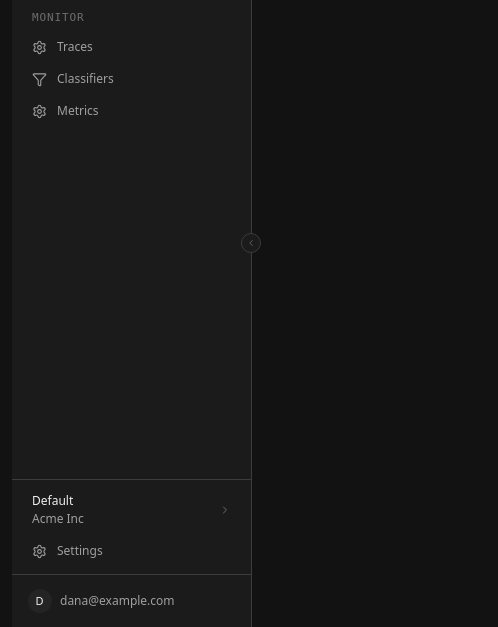
Test: the project switcher › starts a new project in this org
This screenshot has width=498, height=627.
Click the button "Default Acme Inc". click: (132,510)
box: [22,486,241,534]
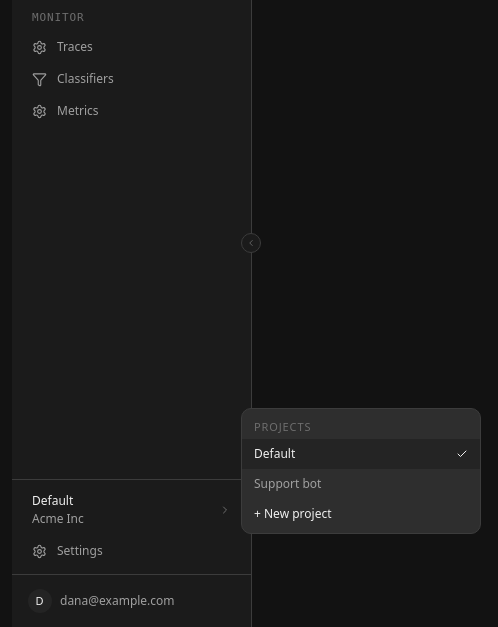
Click the button "+ New project". click: (361,514)
box: [242,499,480,529]
(page scrolled)
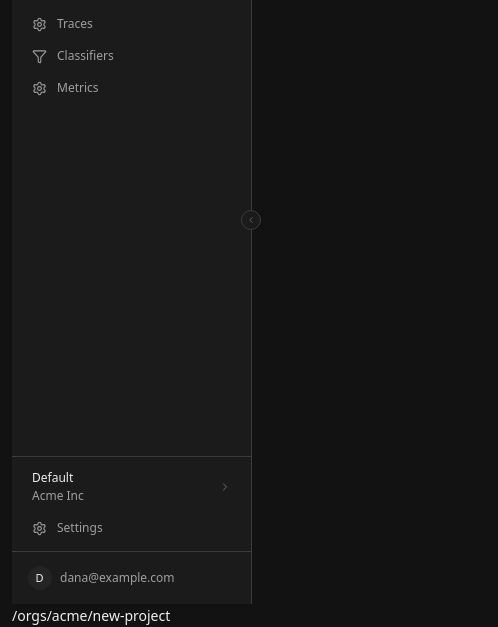
Check: the text named "location" reads "/orgs/acme/new-project", box [12,606,170,625]
